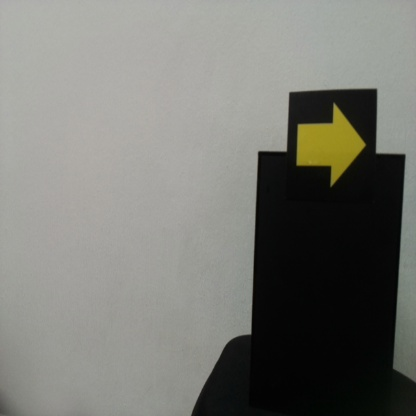id_3: (288, 92, 377, 199)
